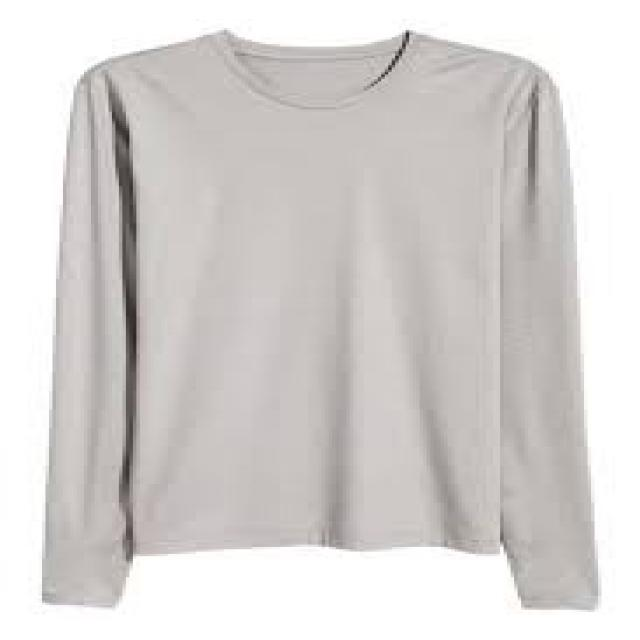plain: (41, 29, 608, 613)
